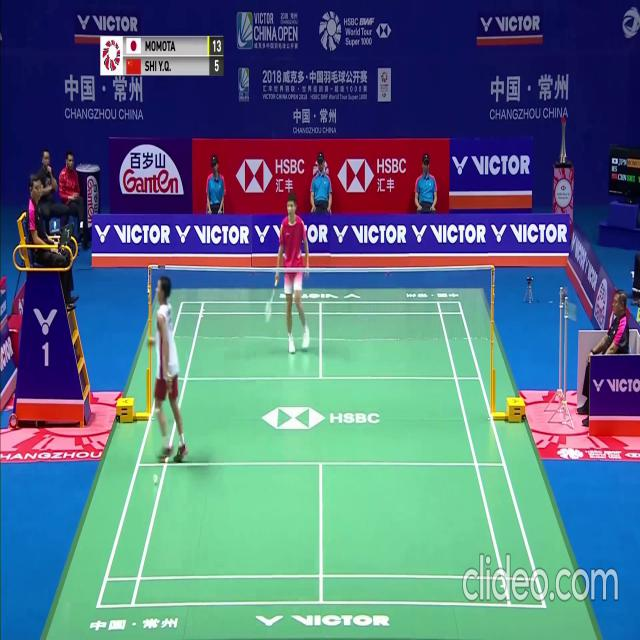Shuttlecock: (154, 474, 158, 482)
